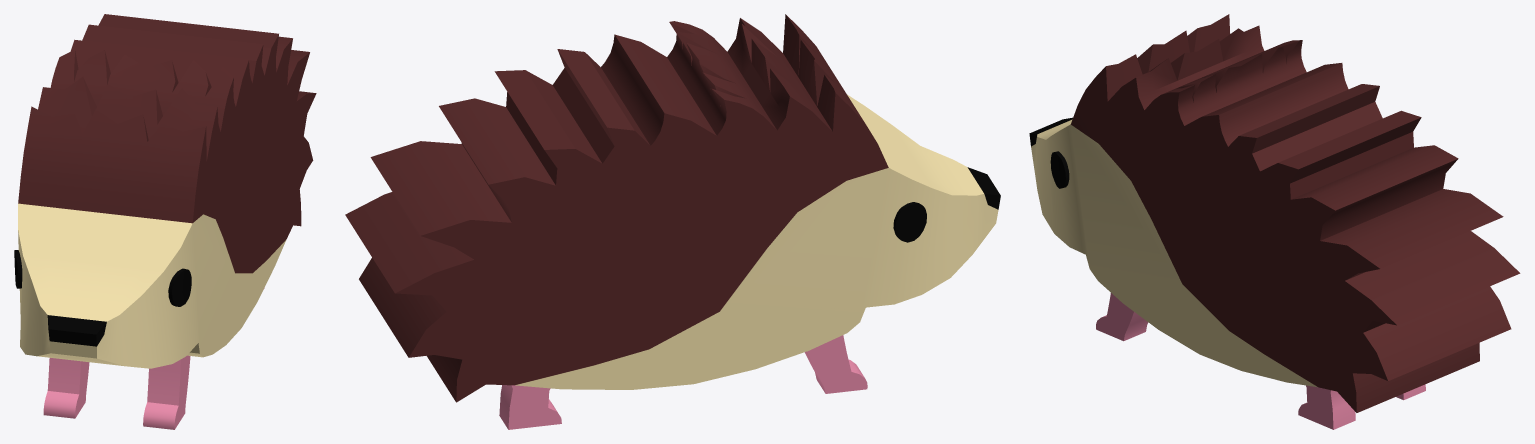
File: hedgehog.glb
3 views of the same model, side by side, from view 1: azimuth 30°, elevation 25°; view 2: azimuth 150°, elevation 25°; view 3: azimuth 270°, elevation 25° (orthographic). The views are drawn at different scales.
Visible parts, largest first — view 1: Plane.143, Circle.1923; view 2: Plane.143, Circle.1923; view 3: Plane.143, Circle.1923.
Part boxes in pixels (<box>): Plane.143: <box>18,14,316,429</box>; Circle.1923: <box>14,250,191,306</box>; Plane.143: <box>345,14,1000,429</box>; Circle.1923: <box>893,202,926,242</box>; Plane.143: <box>1029,14,1520,429</box>; Circle.1923: <box>1050,151,1069,188</box>.
Bounding box in the file's own units: 2.31 × 1.53 × 2.31.
Materials: 1 (1 with a texture image).
